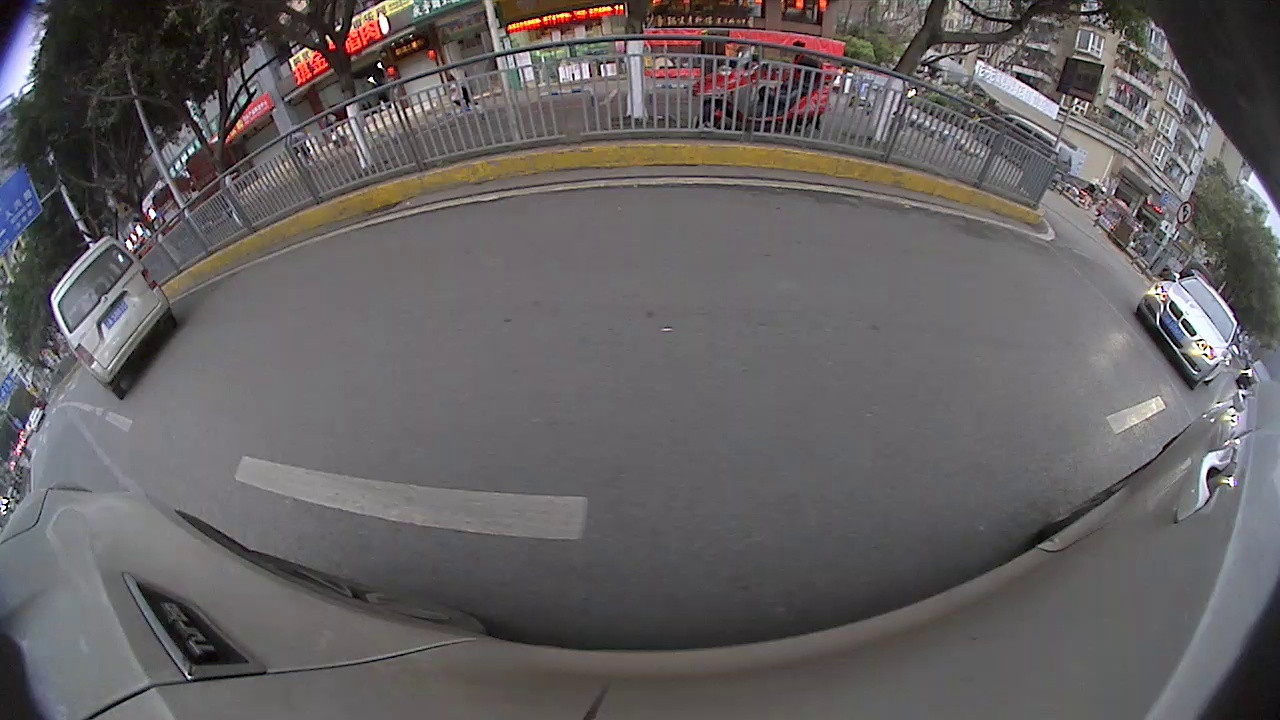car: (45, 229, 186, 401), (693, 39, 842, 138), (1132, 265, 1243, 392), (969, 107, 1078, 195)
